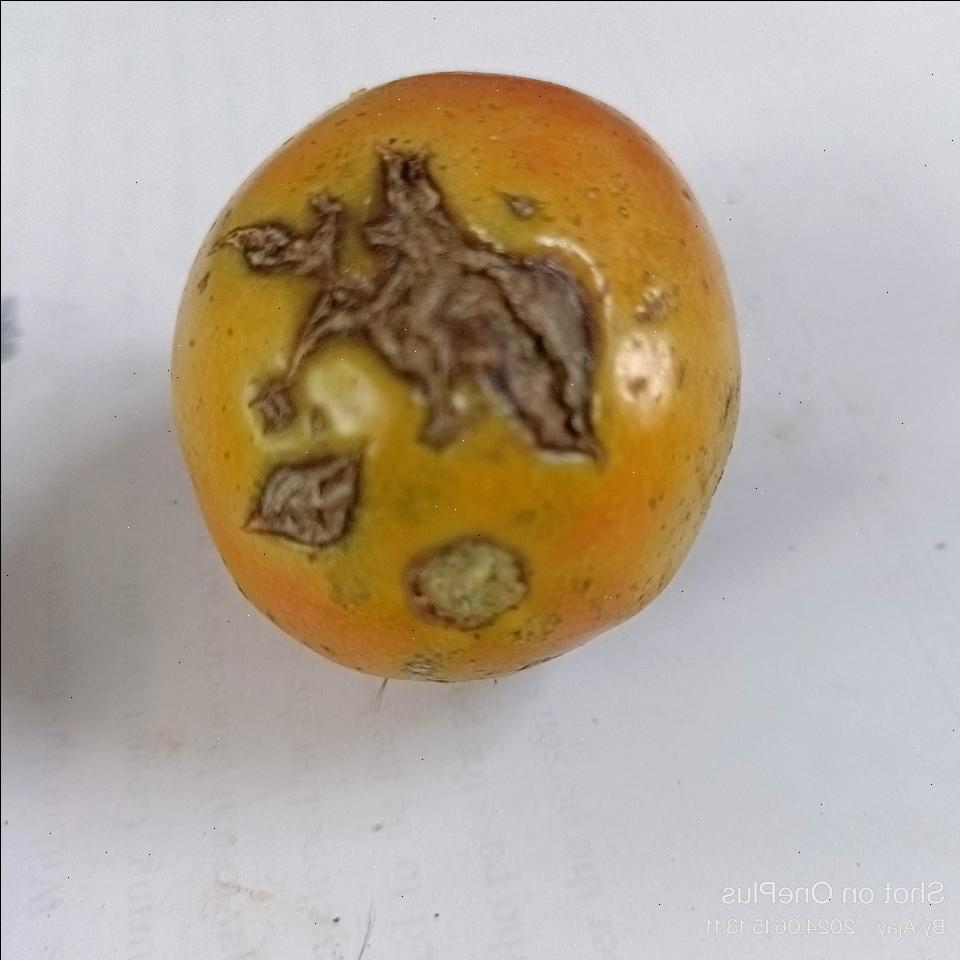Bacterial_Spot: (241, 142, 609, 424), (408, 530, 548, 630), (246, 446, 360, 540)
